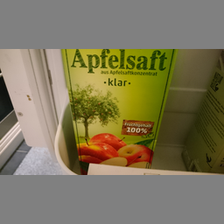juice: (61, 49, 178, 172)
